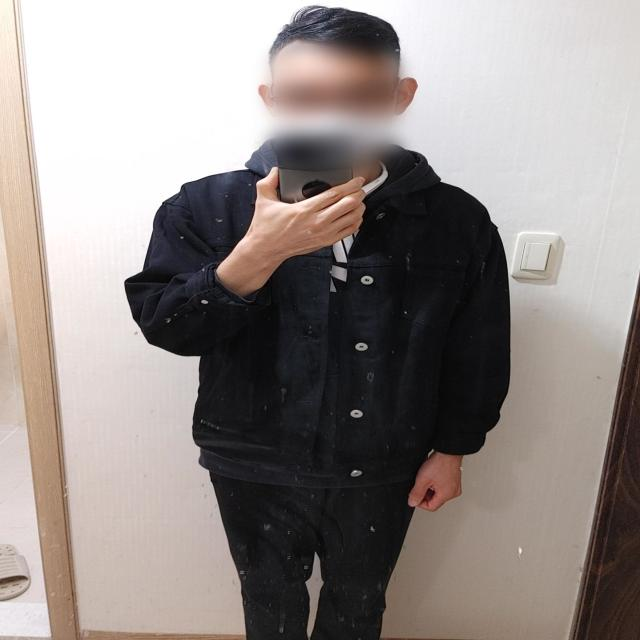denimpants: (214, 463, 428, 640)
jacket: (133, 151, 517, 489)
